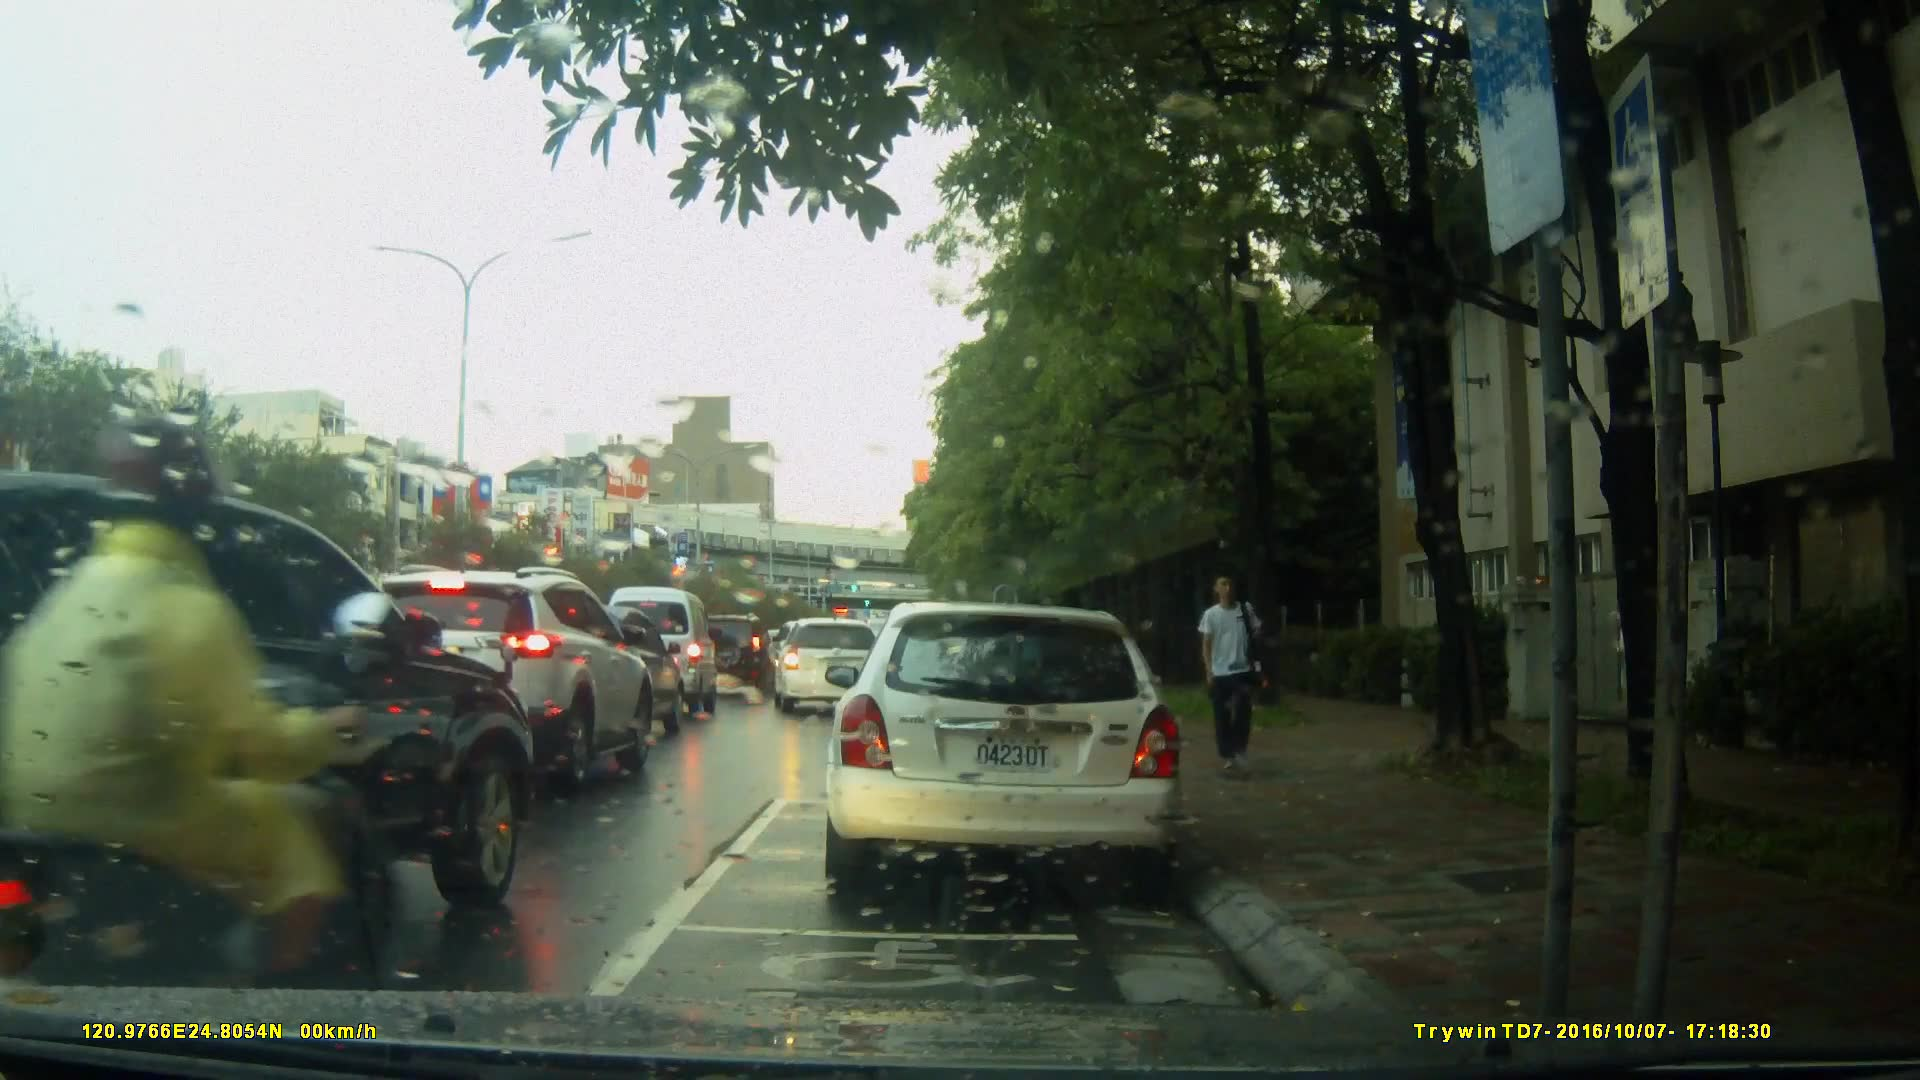pedestrian: (1195, 566, 1274, 788)
rider: (3, 415, 388, 1071)
vehicle: (1, 470, 533, 988), (820, 602, 1188, 898), (343, 563, 660, 791), (533, 603, 693, 736), (599, 585, 723, 722), (772, 617, 889, 715), (679, 611, 775, 702)
